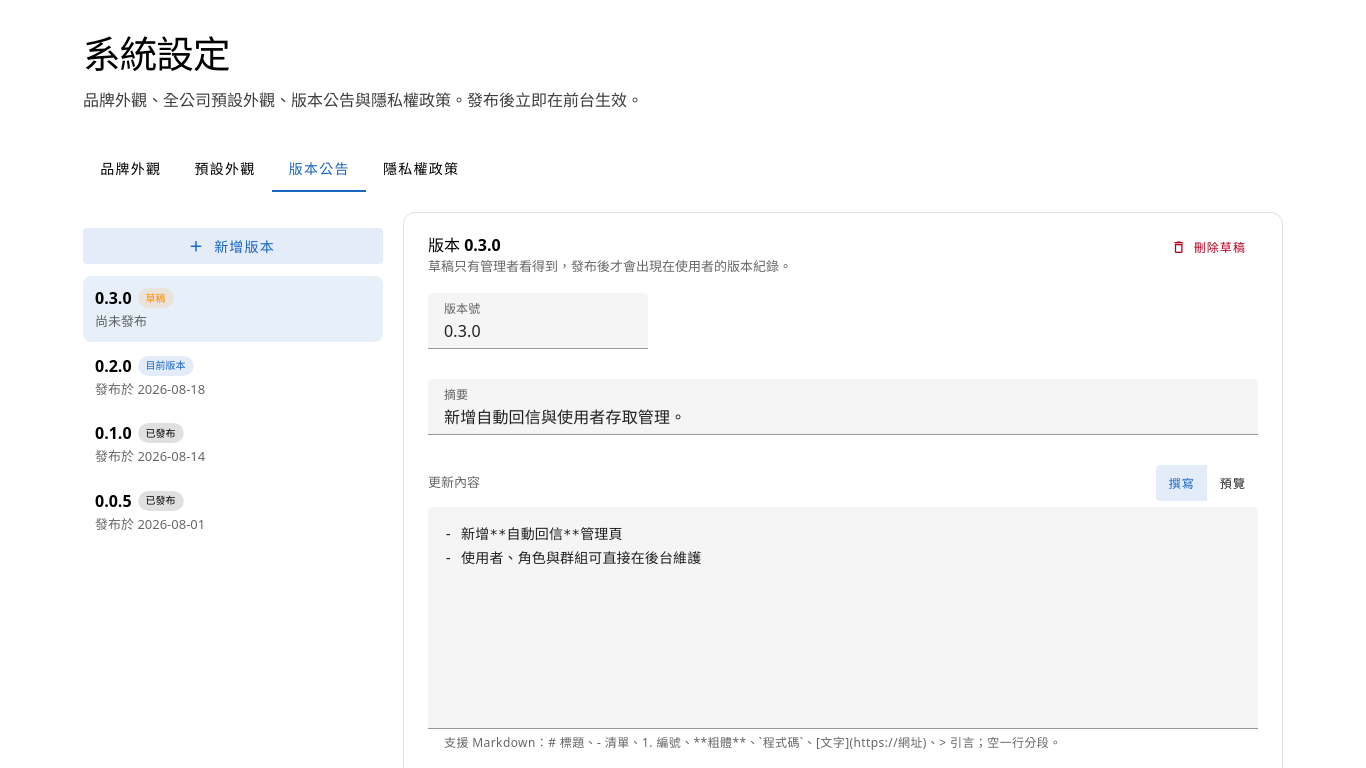
Test: AdminSettingsView › should ask before discarding release edits when switching versions
Replace the text in the field labelled "摘要" with "尚未儲存的摘要" at (843, 407), box left=428, top=379, right=1258, bottom=435
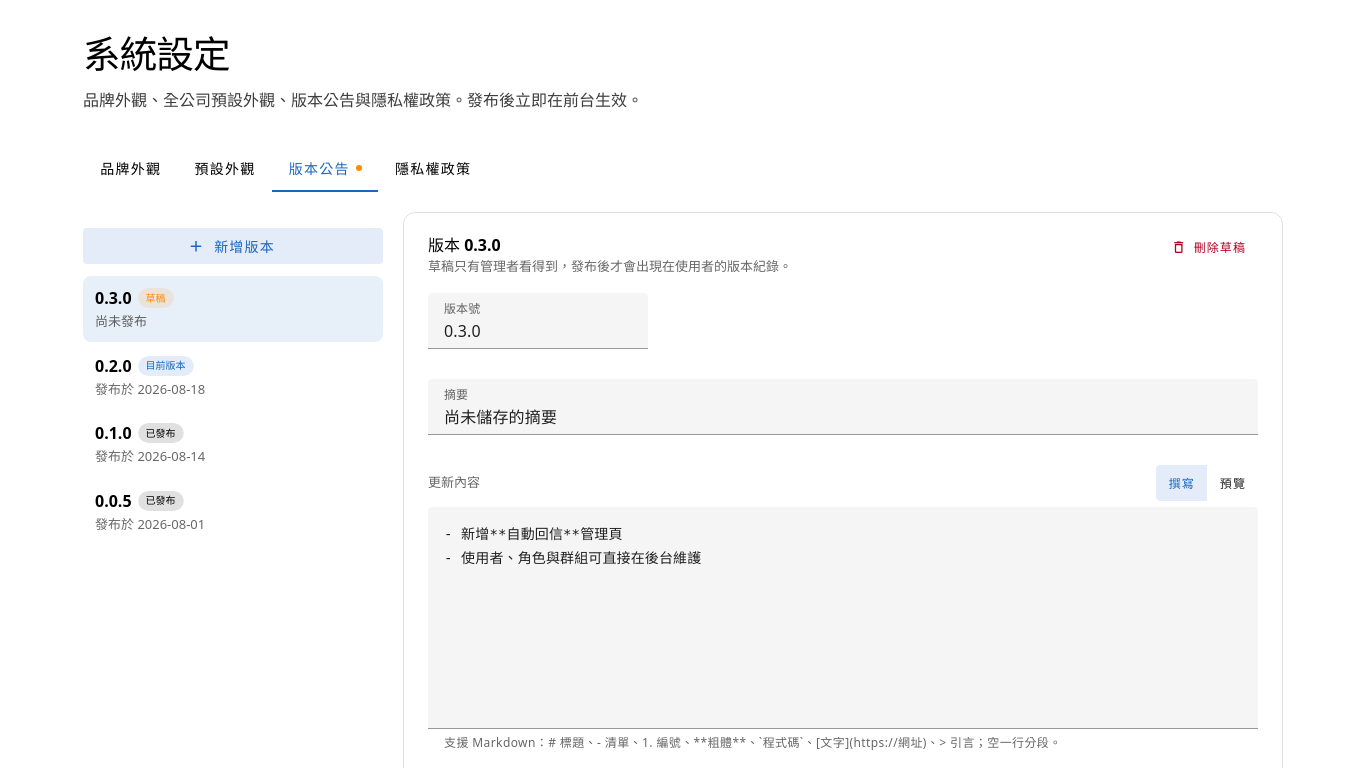
Click the button with class "item-row" showing "0.2.0 目前版本 發布於 2026-08-18" at (113, 366), box left=83, top=344, right=383, bottom=409
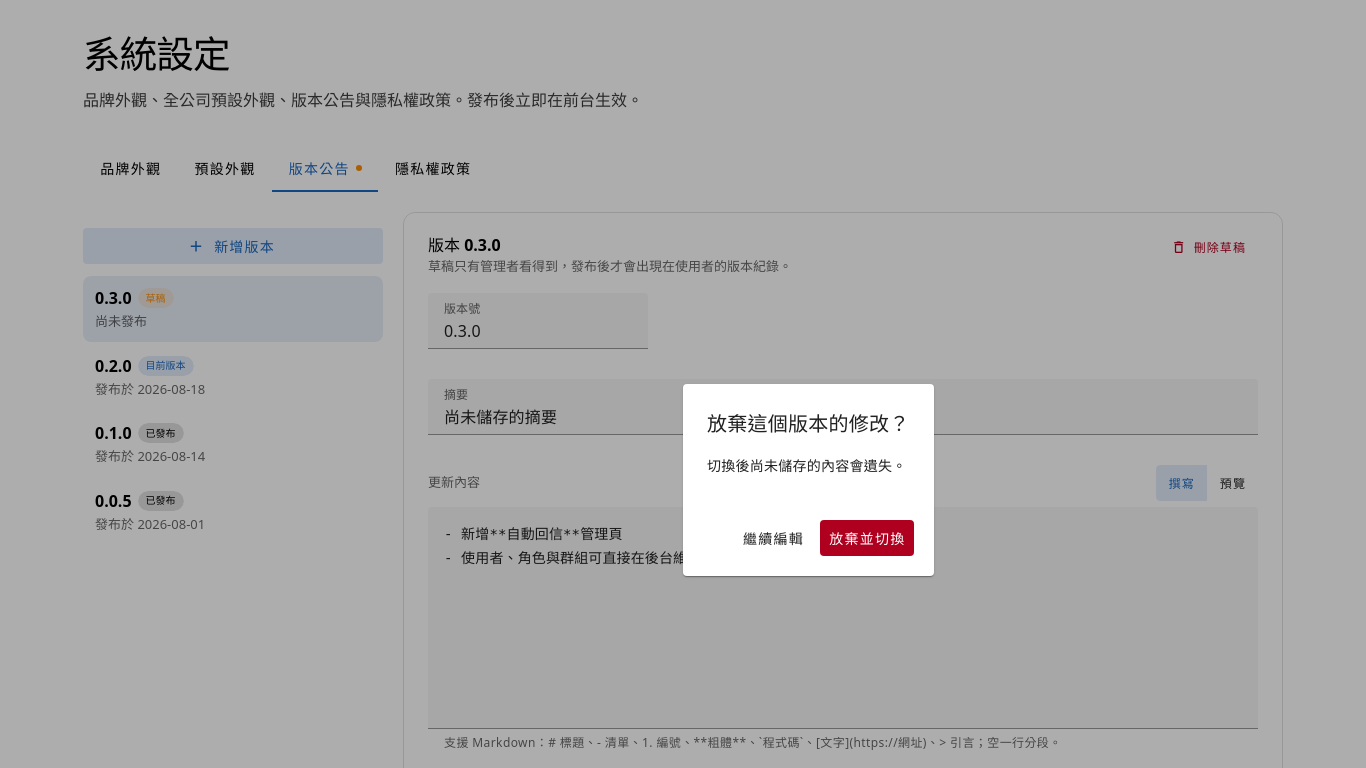
Click the button "放棄並切換" at (867, 538), box left=820, top=520, right=914, bottom=556
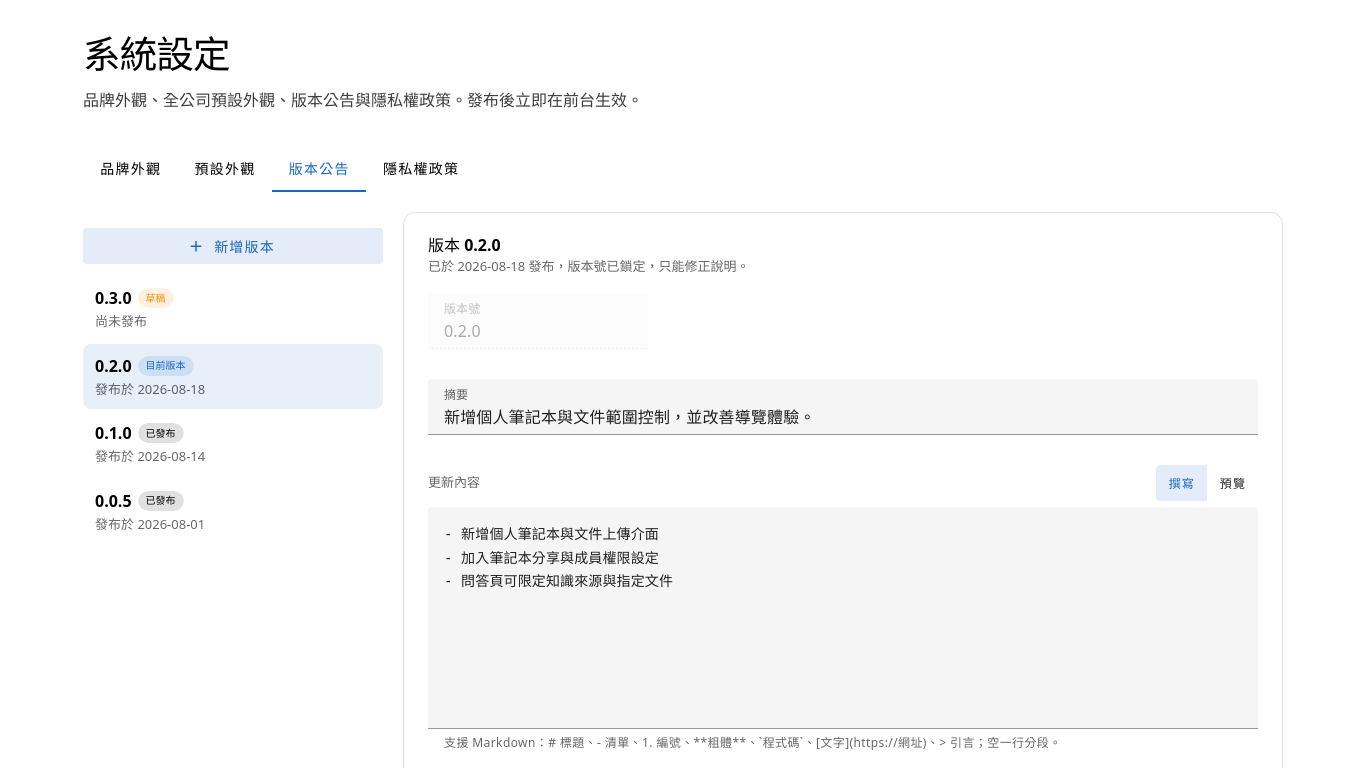
expect the heading "版本 0.2.0" is shown: met, box left=428, top=234, right=501, bottom=256
